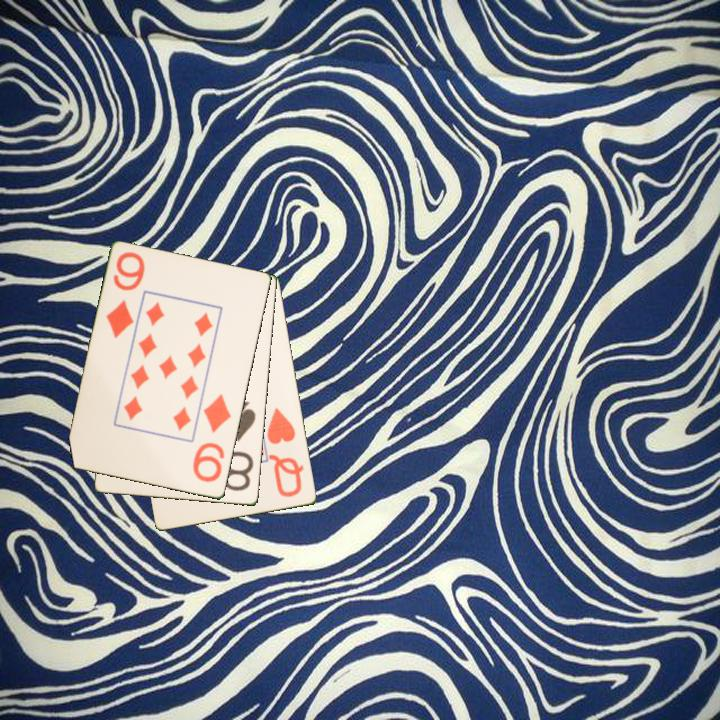8s: (220, 398, 259, 494)
9d: (189, 391, 235, 486), (102, 249, 148, 341)
Qh: (264, 405, 307, 500)
